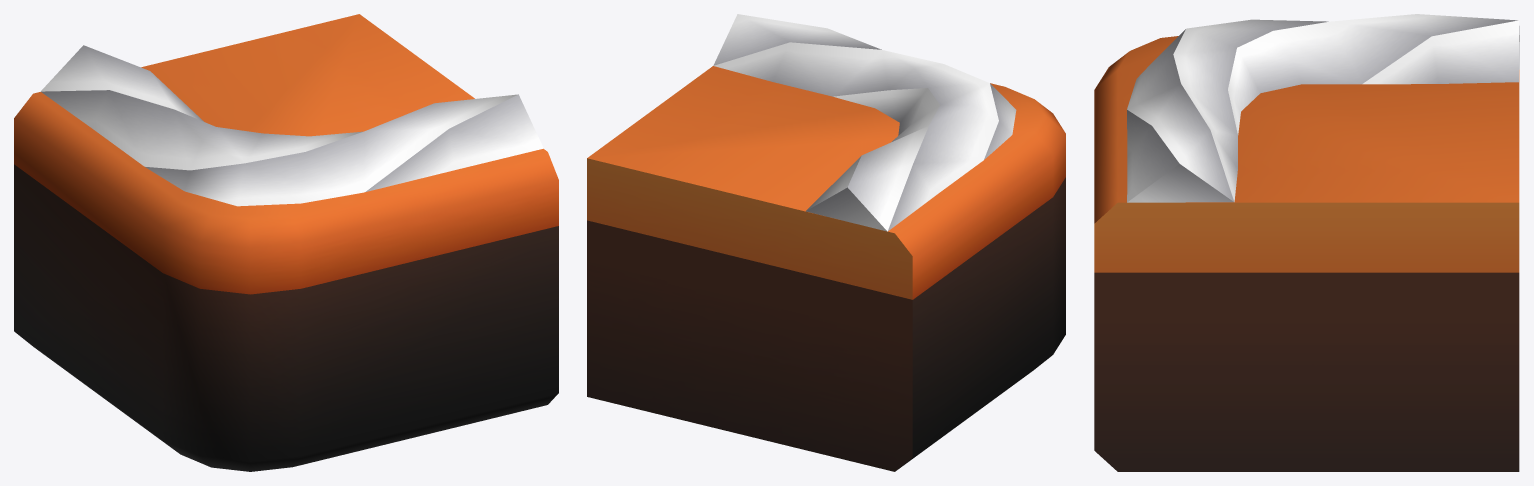
The model's file is m_SheetCake07_Slice01.fbx.
The picture shows the model from 3 angles, left to right: view 1: azimuth 30°, elevation 25°; view 2: azimuth 150°, elevation 25°; view 3: azimuth 270°, elevation 25°; orthographic projection. The views are drawn at different scales.
Parts seen in each view (by area): view 1: m_SheetCake07_Slice01; view 2: m_SheetCake07_Slice01; view 3: m_SheetCake07_Slice01.
Part boxes in pixels (x1,y1,x2,y2): m_SheetCake07_Slice01: (14,14,558,471); m_SheetCake07_Slice01: (587,14,1065,471); m_SheetCake07_Slice01: (1094,14,1519,471).
Size of the model in its own units: 10.01 by 8 by 10.01.
